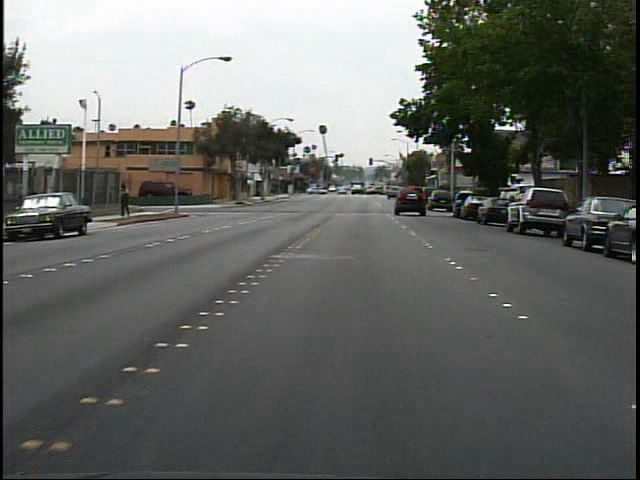person: (117, 178, 138, 221)
